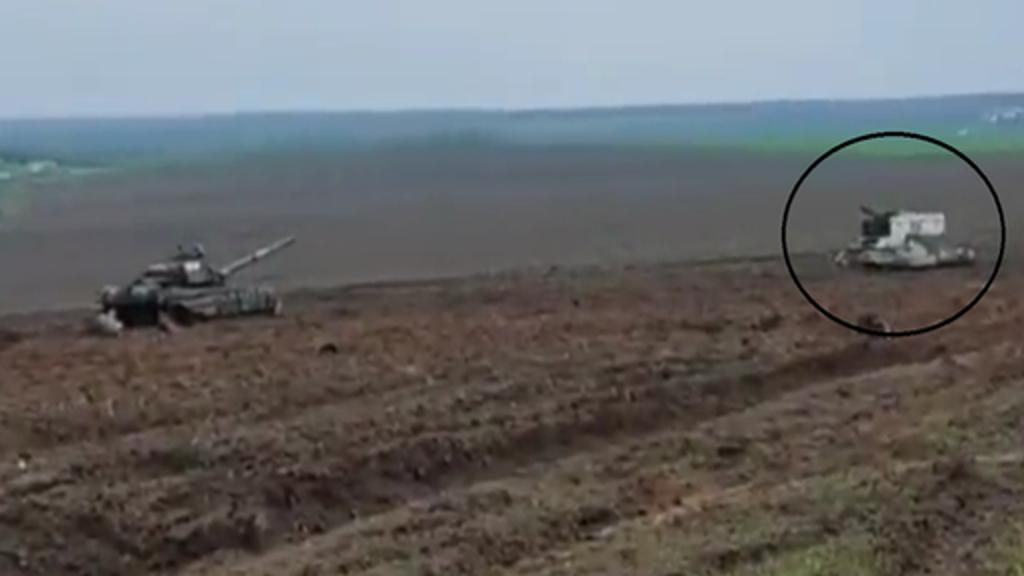MLRS: (836, 198, 988, 282)
TANK: (88, 224, 296, 326)
